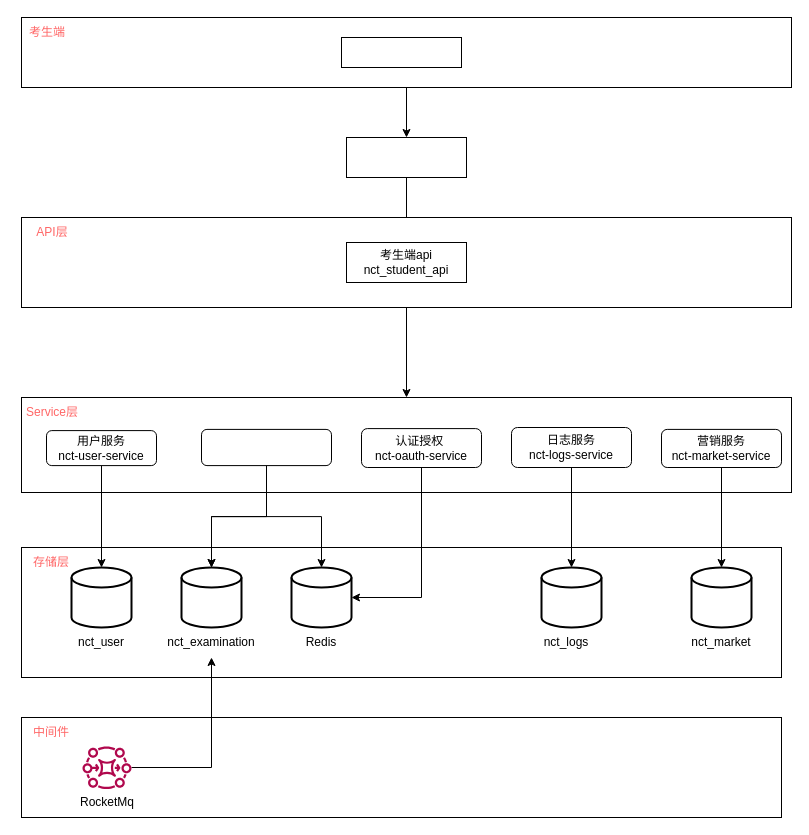
Image size: 809x835. Some labels were removed from this diagram. Here are the shapes that lost their labels. From the top down, the centre of each, then its label:
At pixel 401 52: "nct_student".
At pixel 406 157: "网关 nct_gateway".
At pixel 266 447: "考试服务 nct-examination-service".
